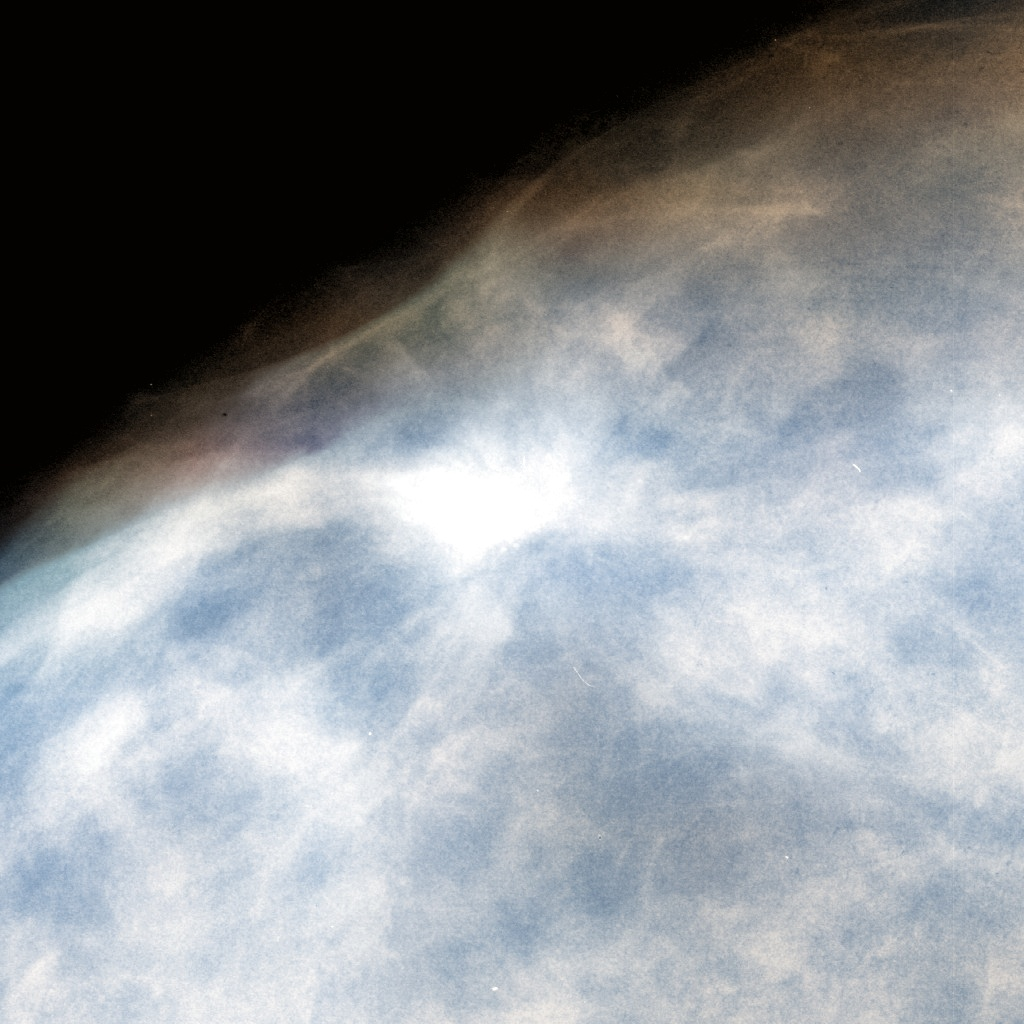tumor: (319, 328, 705, 696)
